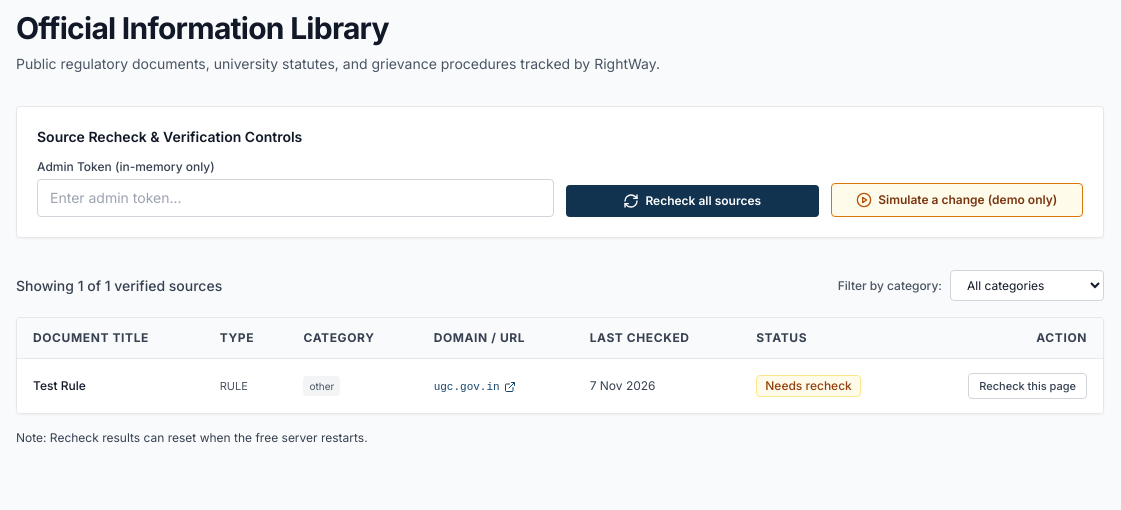
Test: Step 4: Sources and About Pages › performs single-record recheck sending record_id and updates status chip
The image size is (1121, 510).
Expected: the text "Test Rule" is shown, [33,378,86,393]
// Enter token
Type "my-secret-token" into the password field labelled "Admin Token (in-memory only)" at {"x": 296, "y": 198}, box [37,179,554,217]
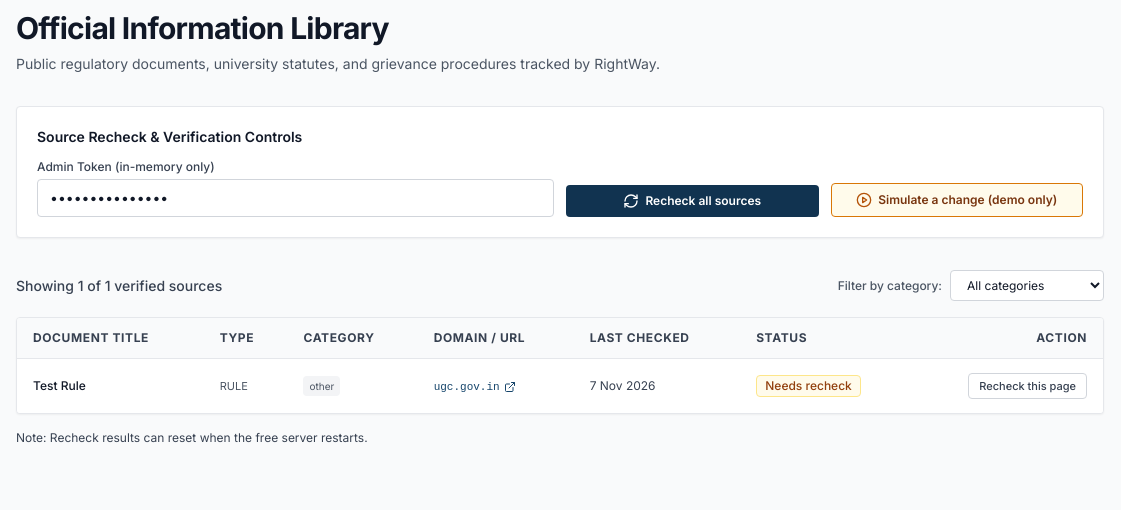
// Click single record recheck
Click the button "Recheck this page" at {"x": 1028, "y": 386}, box [968,373,1087,399]
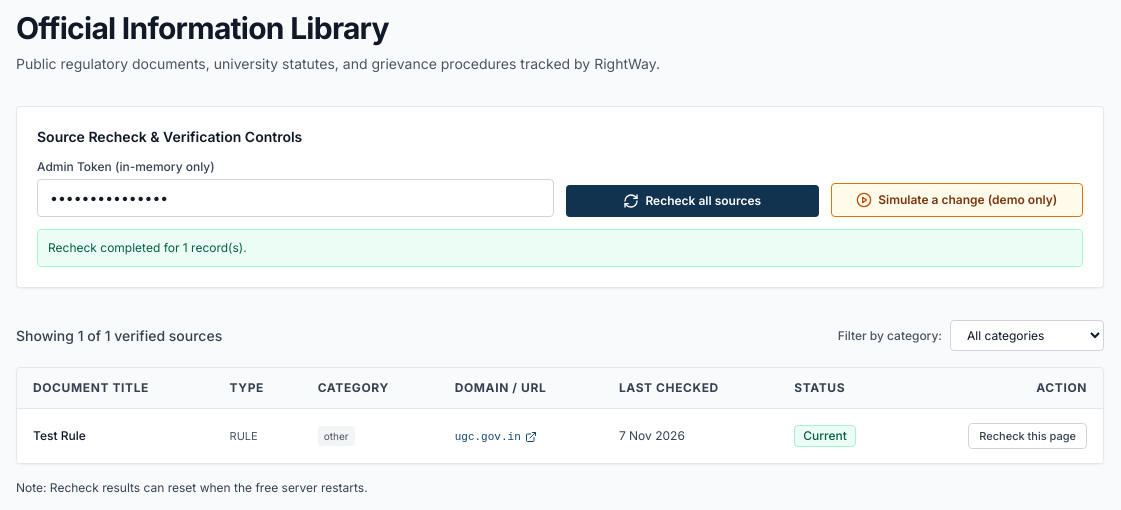
Now the text "Current" is shown, box [794,425,856,447]
